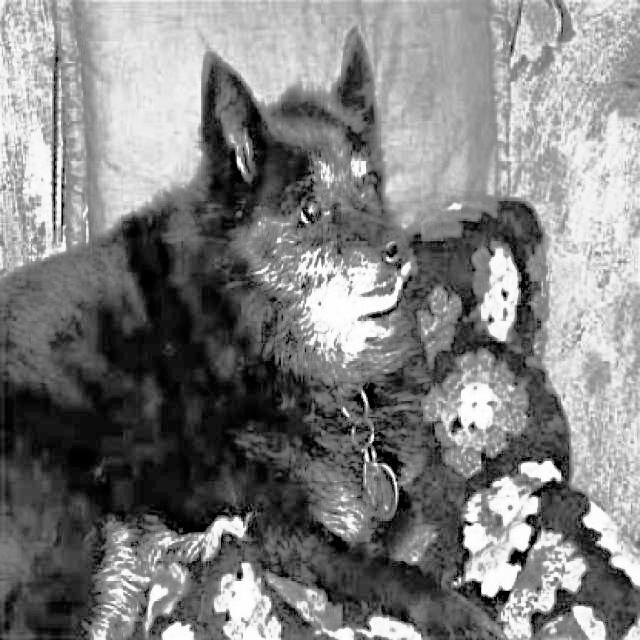Dog: (0, 17, 498, 640)
